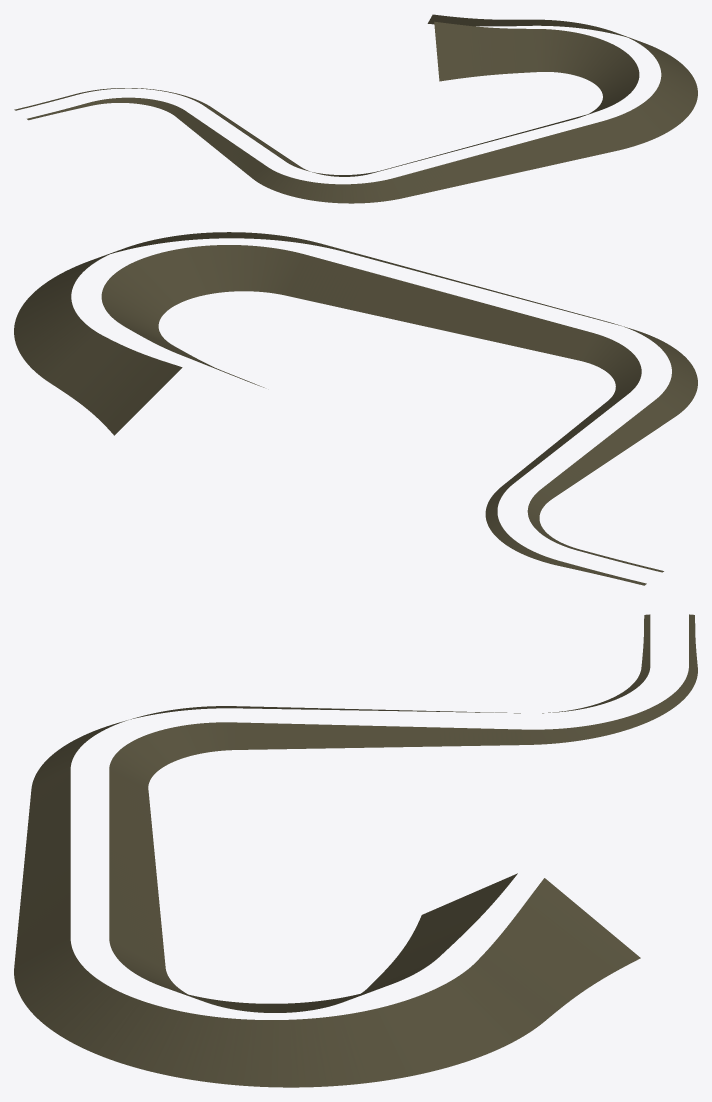
Rendered from between_sites_earth.dae.
3 renders of one model, top to bottom at view 1: azimuth 30°, elevation 25°; view 2: azimuth 150°, elevation 25°; view 3: azimuth 270°, elevation 25°, orthographic. The views are drawn at different scales.
Visible parts, largest first — view 1: between_sites_earth_0_L1; view 2: between_sites_earth_0_L1; view 3: between_sites_earth_0_L1.
Part boxes in pixels (box(x1,y1,x2,y2)): between_sites_earth_0_L1: box(14, 14, 697, 203); between_sites_earth_0_L1: box(14, 232, 697, 585); between_sites_earth_0_L1: box(14, 614, 697, 1087).
Bounding box in the file's own units: 116 × 70.85 × 7.02.
